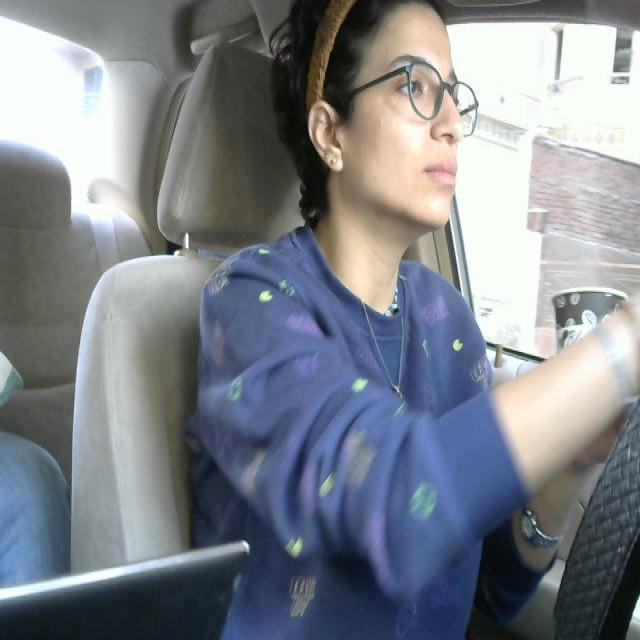drinking: (552, 282, 628, 416)
